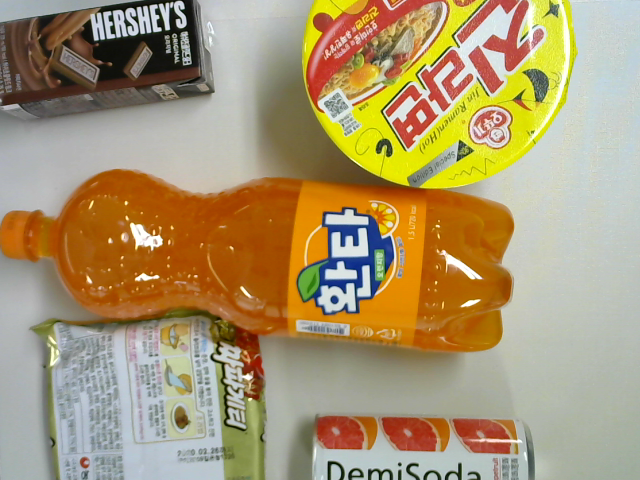Demisoda_Grapefruit_Can_250ml: (307, 413, 545, 480)
Hush_Choco_Drink: (1, 1, 218, 126)
Hwanta_Orange_1.5L: (1, 168, 513, 355)
Jinlamyeon_Hot_Taste_Large_Cup: (301, 1, 573, 190)
Olive_Chapaghetti: (28, 310, 266, 480)
